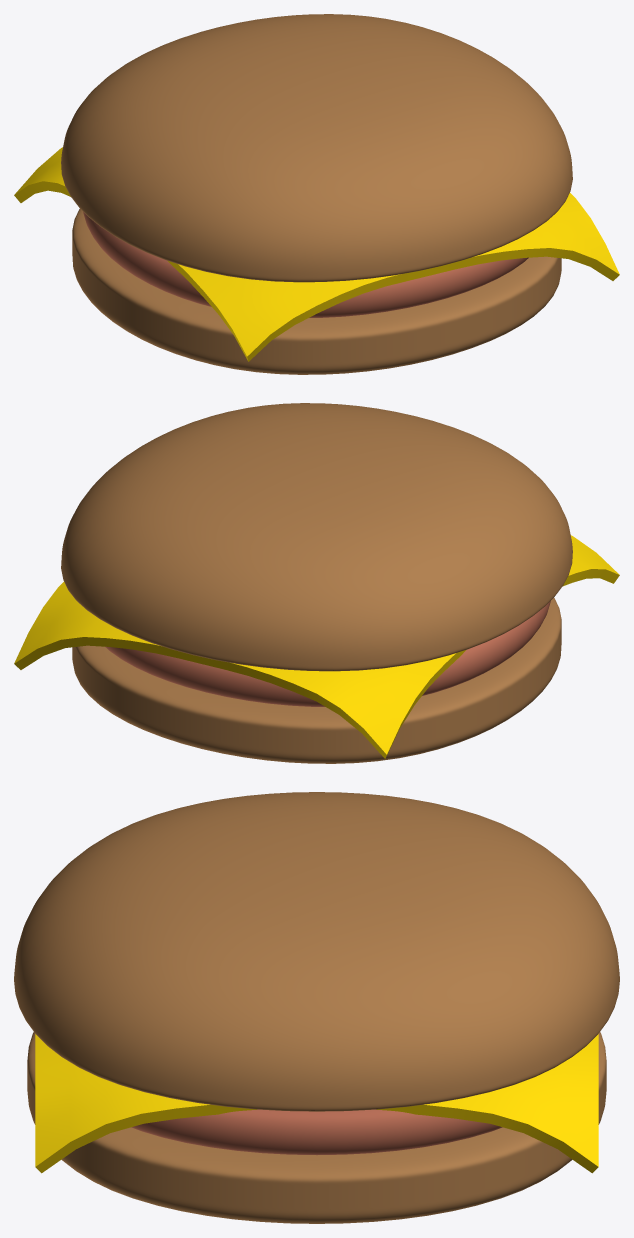
Rendered from hamBurger.glb.
3 renders of one model, top to bottom at view 1: azimuth 30°, elevation 25°; view 2: azimuth 150°, elevation 25°; view 3: azimuth 270°, elevation 25°, orthographic. The views are drawn at different scales.
Visible parts, largest first — view 1: Cube.002, Cube, Plane, Cube.001; view 2: Cube.002, Cube, Plane, Cube.001; view 3: Cube.002, Cube, Plane, Cube.001.
Boxes of the visible parts, x1,y1,x2,y2 form: Cube.002: [61, 14, 572, 282]; Cube: [72, 209, 561, 374]; Plane: [14, 147, 619, 361]; Cube.001: [83, 212, 528, 317]; Cube.002: [61, 403, 572, 671]; Cube: [72, 598, 561, 763]; Plane: [14, 535, 619, 758]; Cube.001: [105, 601, 550, 706]; Cube.002: [14, 792, 619, 1111]; Cube: [27, 1032, 606, 1223]; Plane: [35, 1034, 598, 1173]; Cube.001: [131, 1109, 502, 1155].
Size of the model in its own units: 6.54 by 3.2 by 6.54.
